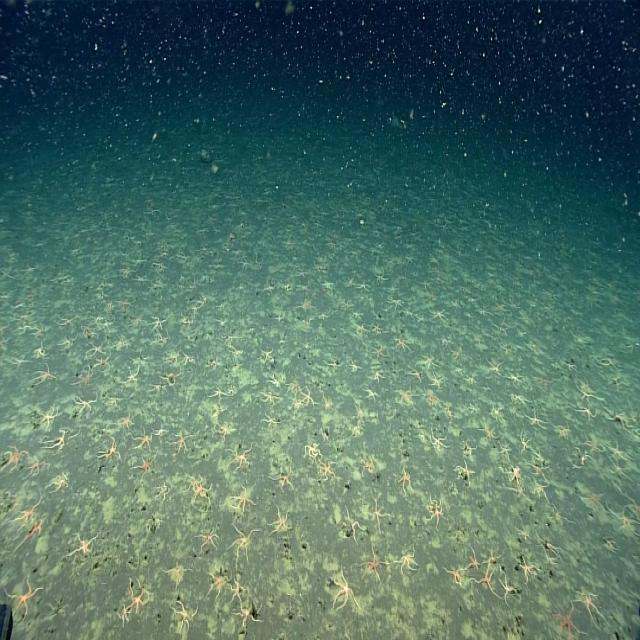brittle-stars: (2, 576, 40, 622), (326, 564, 356, 618), (607, 495, 640, 541), (532, 528, 570, 566), (569, 586, 604, 621), (265, 505, 295, 543), (71, 528, 95, 572), (228, 527, 260, 560), (170, 598, 195, 639), (555, 602, 581, 640), (514, 553, 538, 594), (13, 493, 42, 525), (359, 550, 386, 584), (188, 472, 211, 509), (127, 580, 152, 614), (194, 526, 220, 558), (132, 449, 158, 481), (342, 508, 368, 540), (606, 406, 633, 436), (524, 404, 549, 436), (369, 500, 390, 538), (499, 569, 518, 610), (233, 600, 258, 631), (452, 459, 476, 491), (585, 484, 609, 516), (480, 421, 504, 452), (31, 362, 59, 388), (72, 389, 93, 423), (230, 485, 253, 516), (273, 464, 296, 495), (2, 443, 25, 474), (579, 378, 603, 407), (300, 435, 323, 465), (358, 455, 381, 485), (462, 540, 481, 576), (448, 566, 470, 597), (96, 440, 122, 466), (205, 568, 226, 600), (425, 497, 446, 529), (478, 562, 496, 599), (120, 356, 140, 389), (398, 545, 418, 577), (430, 425, 450, 457), (35, 402, 57, 430), (512, 524, 534, 552), (50, 426, 70, 456), (27, 519, 50, 545), (582, 435, 608, 458), (398, 460, 413, 499), (510, 480, 531, 507), (29, 339, 50, 365), (228, 569, 244, 603), (531, 474, 548, 506), (298, 382, 316, 411), (178, 346, 197, 373), (426, 388, 445, 415), (259, 412, 283, 433), (233, 447, 253, 472), (533, 442, 549, 473), (578, 399, 597, 425), (174, 426, 190, 456), (49, 474, 73, 494), (259, 390, 284, 409), (458, 438, 477, 463), (260, 346, 278, 372), (148, 308, 166, 334), (598, 354, 624, 372), (116, 602, 132, 631), (56, 334, 78, 355), (394, 333, 411, 359), (418, 350, 439, 371), (210, 382, 230, 404), (30, 458, 50, 480), (428, 307, 448, 329), (368, 340, 388, 362), (216, 419, 232, 446), (506, 460, 524, 484), (365, 384, 383, 408), (76, 365, 92, 391), (82, 323, 101, 344), (148, 377, 166, 399), (487, 542, 502, 568), (152, 335, 174, 352), (157, 482, 171, 508), (92, 352, 109, 373), (120, 413, 136, 434), (82, 347, 106, 361), (518, 433, 532, 457), (139, 434, 157, 452), (486, 357, 501, 378), (320, 466, 334, 488), (154, 420, 168, 441), (508, 366, 520, 390), (374, 366, 386, 388), (103, 318, 115, 335)
